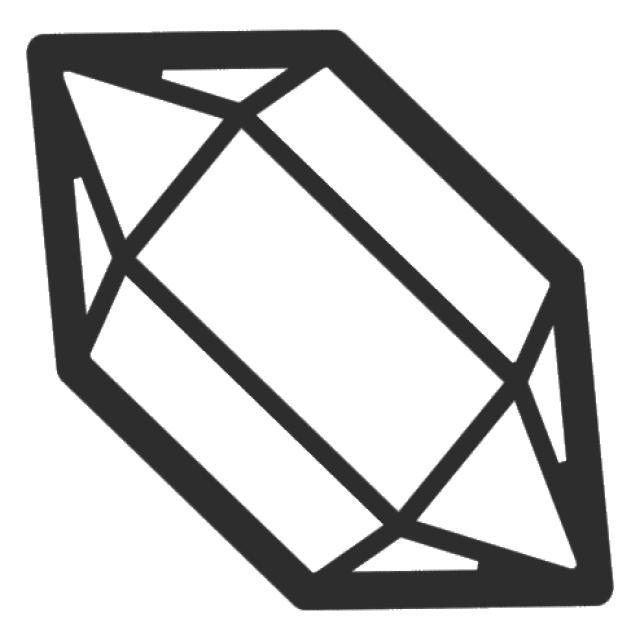crystal: (13, 20, 627, 622)
